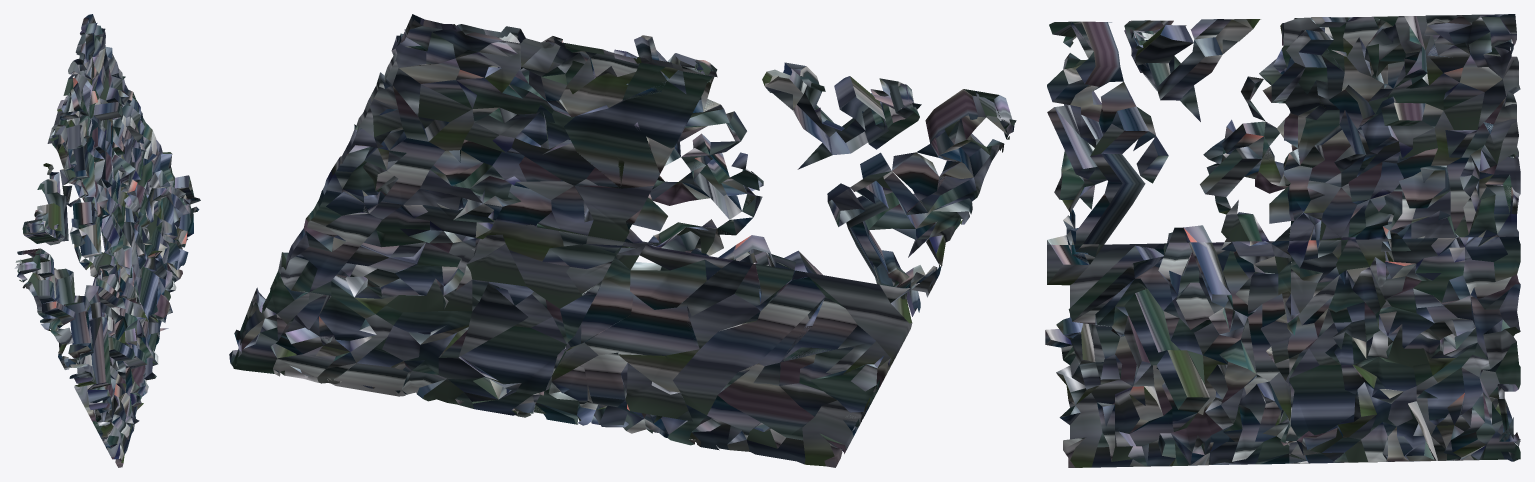
The picture shows the model from 3 angles, left to right: view 1: azimuth 30°, elevation 25°; view 2: azimuth 150°, elevation 25°; view 3: azimuth 270°, elevation 25°; orthographic projection. The views are drawn at different scales.
Visible parts, largest first — view 1: node_3043627270436160_mesh0, node_3043627270436160_mesh1; view 2: node_3043627270436160_mesh0, node_3043627270436160_mesh1; view 3: node_3043627270436160_mesh0, node_3043627270436160_mesh1.
Part boxes in pixels (x1,y1,x2,y2): node_3043627270436160_mesh0: [17, 17, 200, 467]; node_3043627270436160_mesh1: [14, 14, 196, 459]; node_3043627270436160_mesh0: [229, 19, 1014, 467]; node_3043627270436160_mesh1: [230, 14, 1016, 451]; node_3043627270436160_mesh0: [1045, 14, 1520, 467]; node_3043627270436160_mesh1: [1045, 14, 1520, 466].
Bounding box in the file's own units: 584 × 584 × 466.
Materials: 2 (2 with a texture image).
